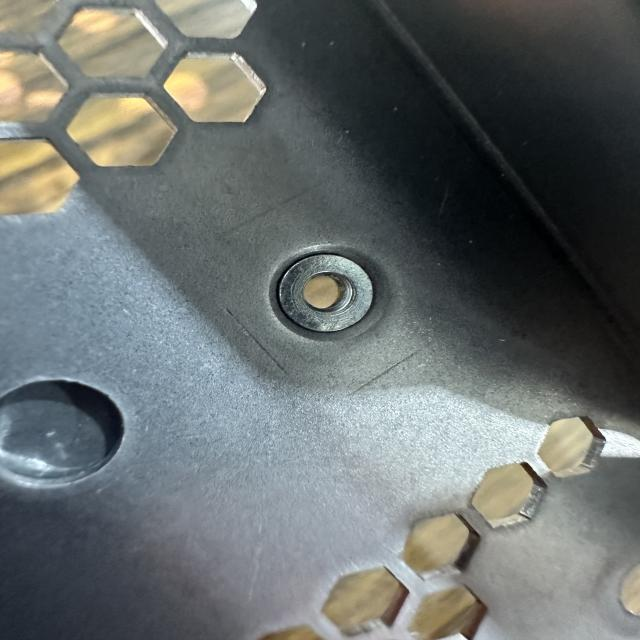Missing screw: (259, 238, 398, 350)
